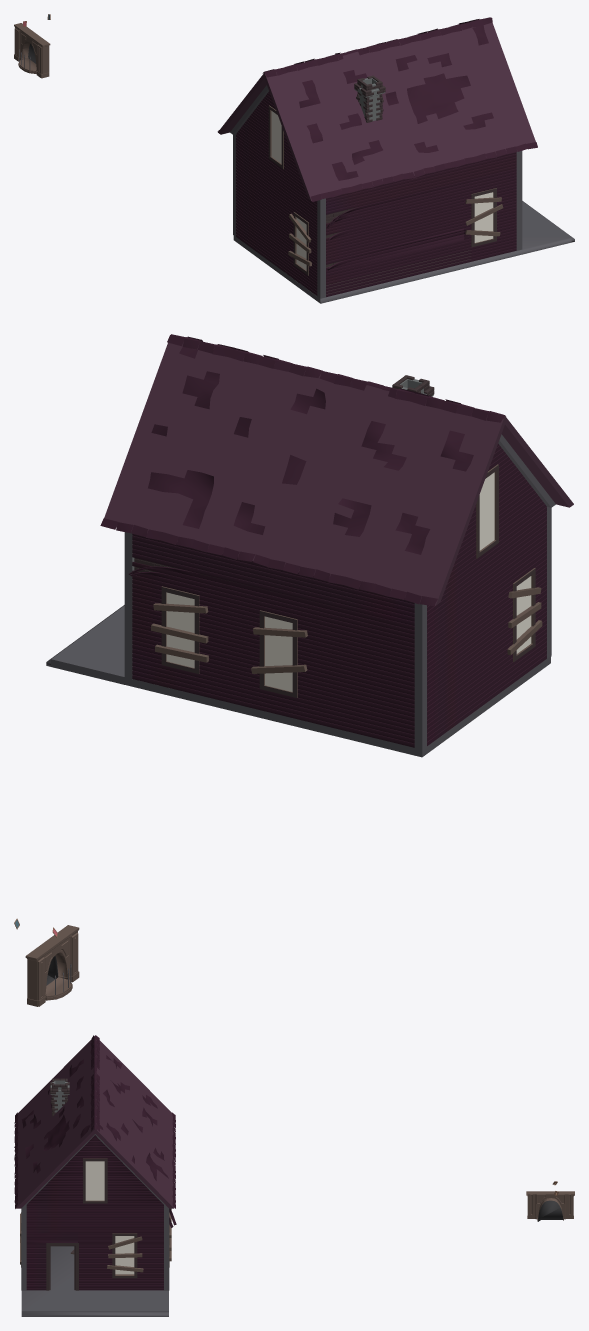
Rendered from Lanas_House2.fbx.
3 views of the same model, one above another, from view 1: azimuth 30°, elevation 25°; view 2: azimuth 150°, elevation 25°; view 3: azimuth 270°, elevation 25° (orthographic). The views are drawn at different scales.
Parts seen in each view (by area): view 1: HouseMain, Roof, Misc, Fireplace, ChimneyBricks; view 2: HouseMain, Roof, Misc, Fireplace; view 3: HouseMain, Roof, Misc, Fireplace, ChimneyBricks.
Boxes of the visible parts, <box> form: HouseMain: <box>218,22,574,303</box>; Roof: <box>217,17,537,201</box>; Misc: <box>268,105,503,275</box>; Fireplace: <box>14,23,50,78</box>; ChimneyBricks: <box>354,75,385,122</box>; HouseMain: <box>46,342,573,757</box>; Roof: <box>100,334,505,606</box>; Misc: <box>151,464,542,697</box>; Fireplace: <box>25,925,79,1006</box>; HouseMain: <box>14,1039,176,1316</box>; Roof: <box>14,1035,175,1208</box>; Misc: <box>20,1158,171,1290</box>; Fireplace: <box>526,1191,574,1221</box>; ChimneyBricks: <box>50,1078,69,1116</box>.
Bounding box in the file's own units: 1063 × 774 × 2288.
